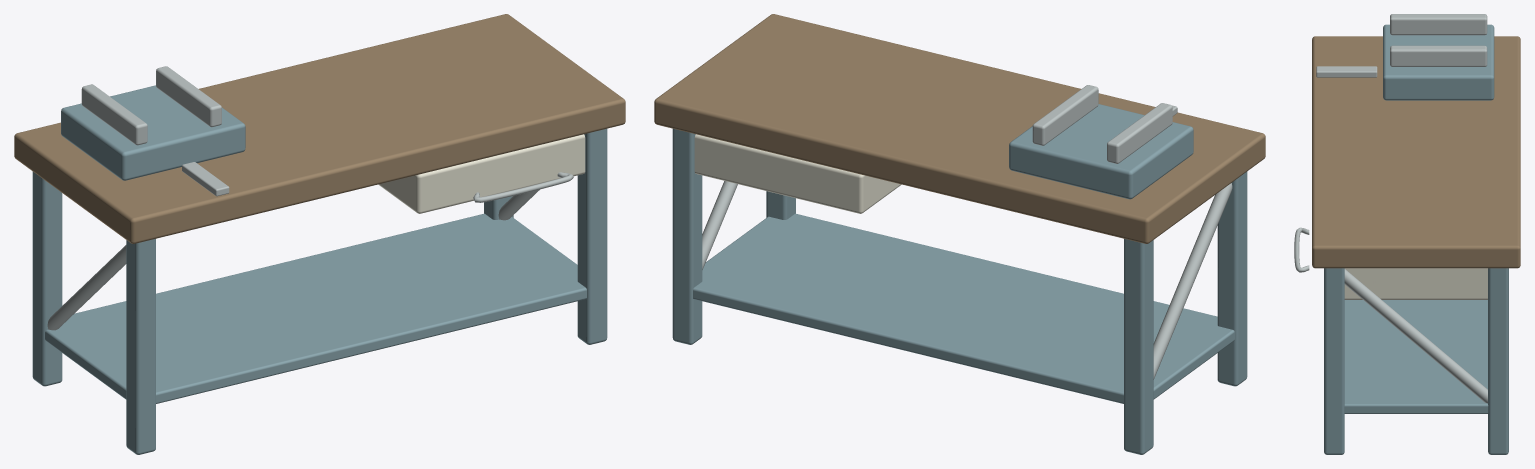
File: abandoned-tidal-model-testing-hall-basin-model-repair--268a810d__32367.glb
The picture shows the model from 3 angles, left to right: view 1: azimuth 30°, elevation 25°; view 2: azimuth 150°, elevation 25°; view 3: azimuth 270°, elevation 25°; orthographic projection. The views are drawn at different scales.
Visible parts, largest first — view 1: basin-model-repair-bench; view 2: basin-model-repair-bench; view 3: basin-model-repair-bench.
Part boxes in pixels (bbox=[...]): basin-model-repair-bench: bbox=[14, 14, 625, 454]; basin-model-repair-bench: bbox=[654, 14, 1265, 454]; basin-model-repair-bench: bbox=[1294, 14, 1520, 454].
Size of the model in its own units: 1.8 by 1.02 by 0.814.
